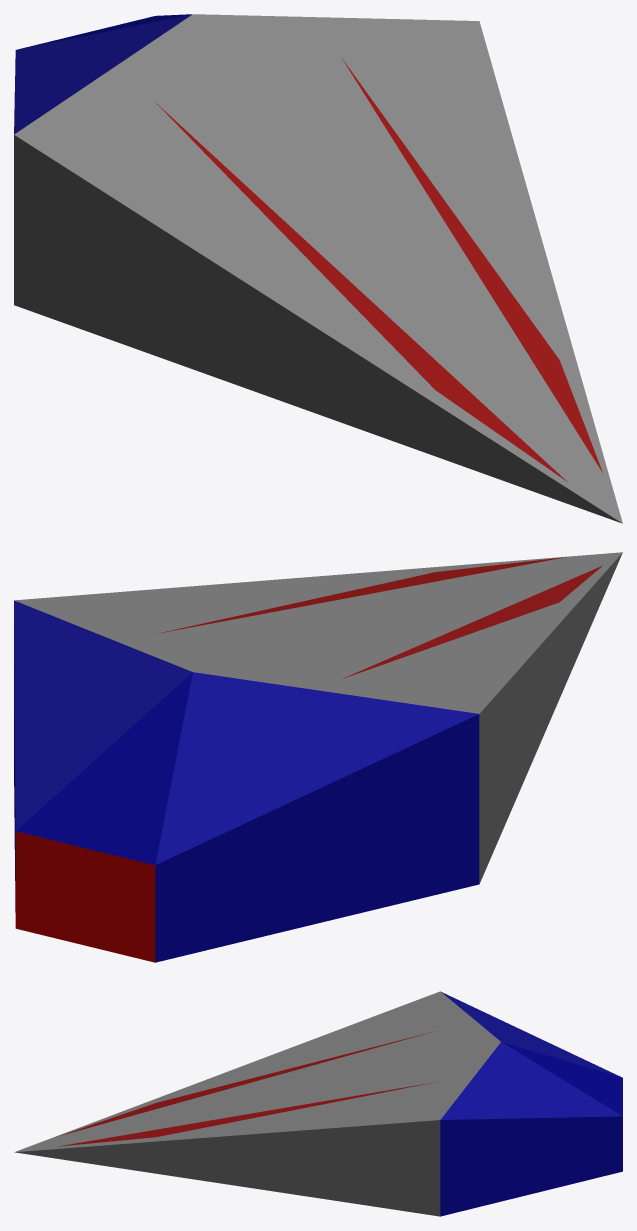
Rendered from ferdelance.obj.
3 views of the same model, one above another, from view 1: azimuth 30°, elevation 25°; view 2: azimuth 150°, elevation 25°; view 3: azimuth 270°, elevation 25° (orthographic). The views are drawn at different scales.
Size of the model in its own units: 80 by 32 by 160.
